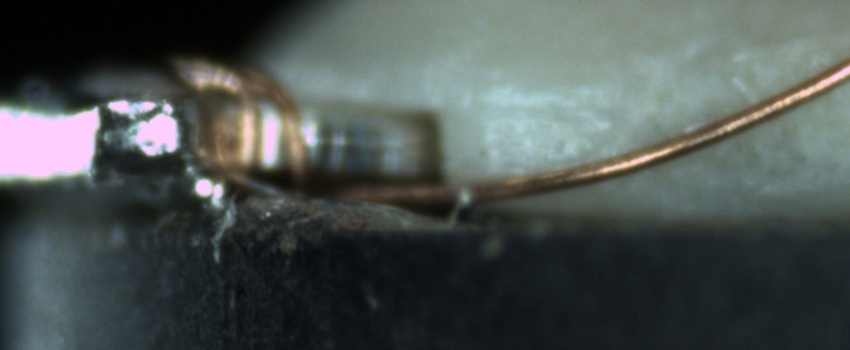DL: (467, 86, 619, 135)
TE: (167, 54, 317, 196)
